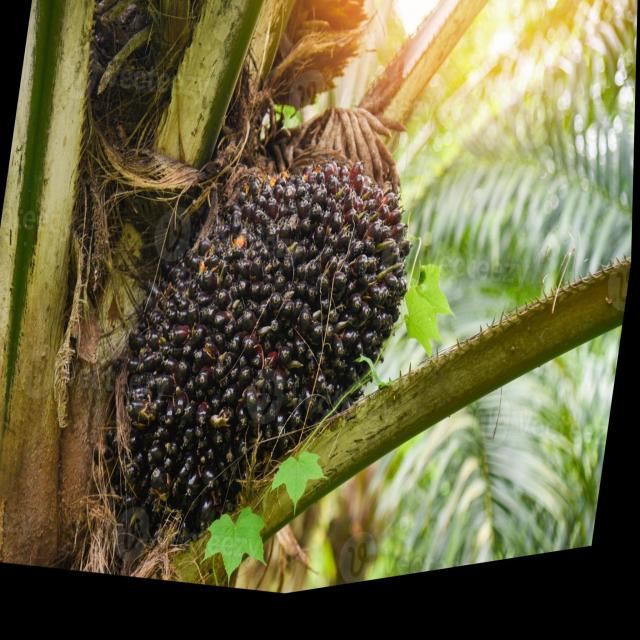Unripe: (97, 109, 429, 603)
